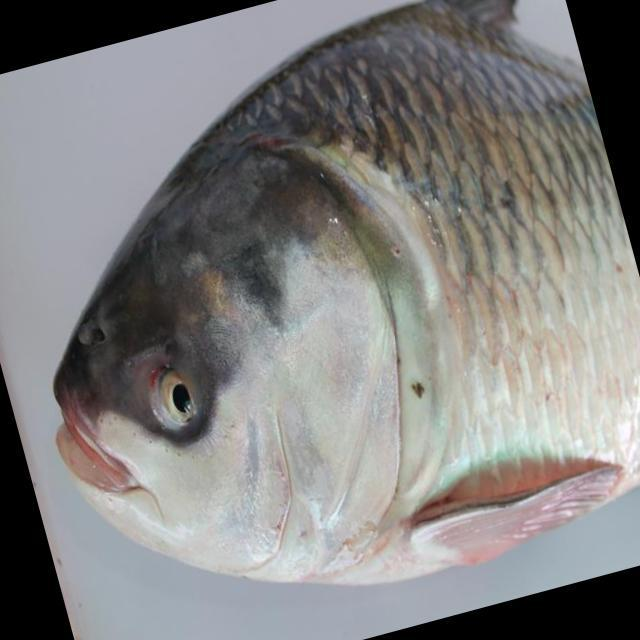Catla: (62, 1, 640, 586)
